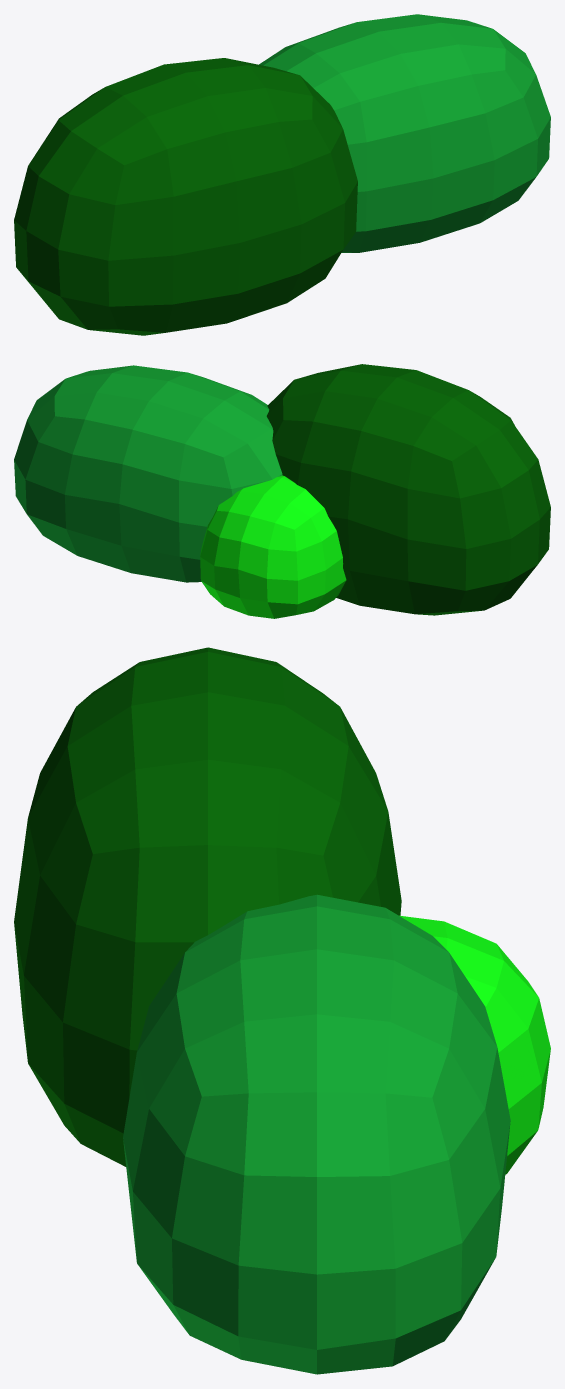
The model's file is GrassTwo.glb.
3 views of the same model, one above another, from view 1: azimuth 30°, elevation 25°; view 2: azimuth 150°, elevation 25°; view 3: azimuth 270°, elevation 25° (orthographic). The views are drawn at different scales.
Parts seen in each view (by area): view 1: GrassTwo; view 2: GrassTwo; view 3: GrassTwo.
Part boxes in pixels (x1,y1,x2,y2): GrassTwo: [14, 14, 550, 335]; GrassTwo: [14, 364, 550, 618]; GrassTwo: [14, 647, 550, 1374].
Bounding box in the file's own units: 38.56 × 16.17 × 18.67.
